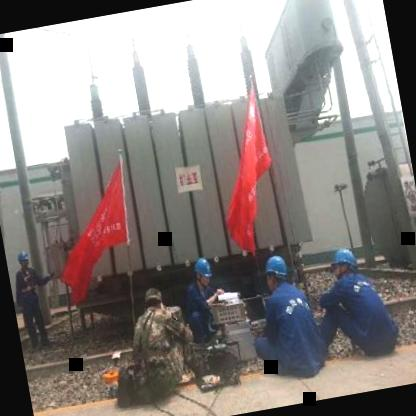helmet: (326, 245, 360, 283), (260, 250, 292, 290), (190, 252, 217, 288), (14, 248, 33, 276)
